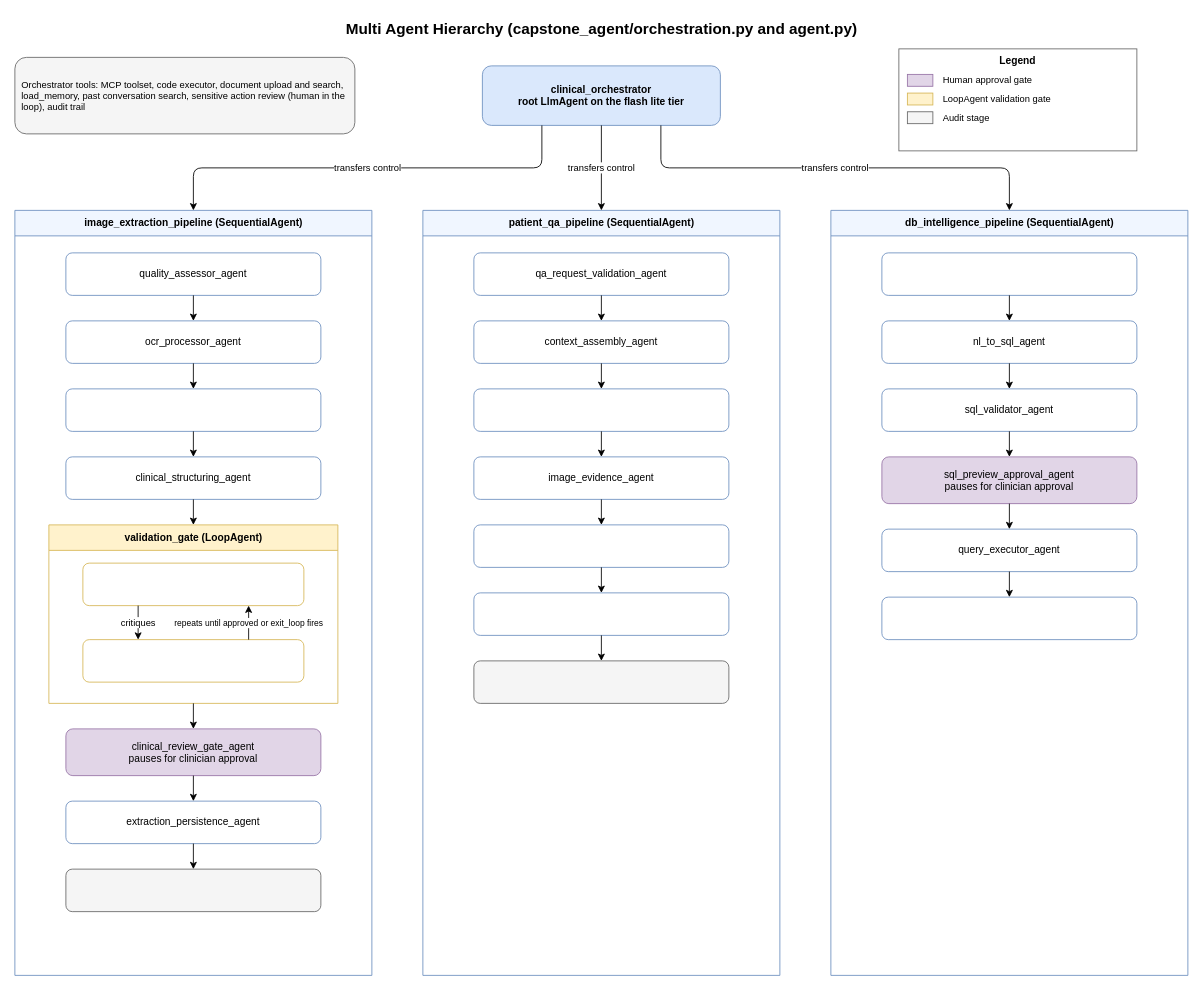
Some shapes in this 1203 by 990 pixel diagram are drawn without their labels. The centre of each missing label's shape, as x and y in pixels:
answer_synthesis_agent: [601,613]
citation_builder_agent: [601,545]
evidence_retrieval_agent: [601,409]
extraction_audit_agent: [193,890]
extraction_critic_agent: [193,584]
extraction_refiner_agent: [193,660]
insight_chart_agent: [1009,618]
qa_audit_agent: [601,681]
schema_discovery_agent: [1009,273]
vision_analyzer_agent: [193,409]
